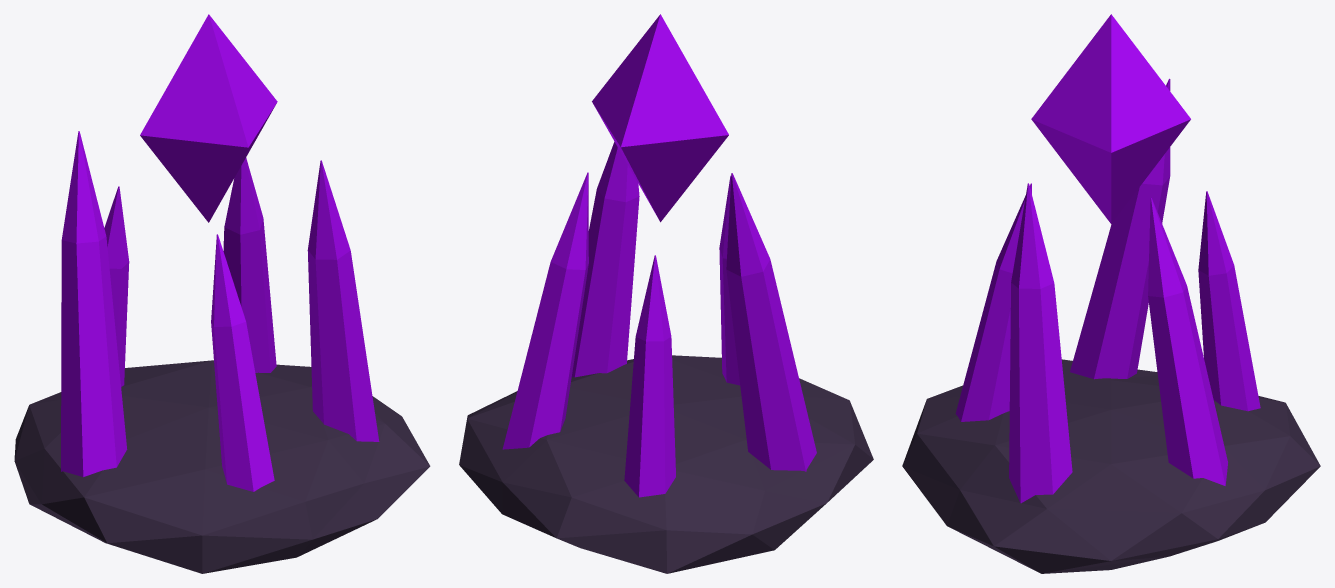
File: amethyst.glb
3 views of the same model, side by side, from view 1: azimuth 30°, elevation 25°; view 2: azimuth 150°, elevation 25°; view 3: azimuth 270°, elevation 25° (orthographic).
Parts seen in each view (by area): view 1: RockBase, AmethystMonolith_2, AmethystFloat, AmethystMonolith_0, AmethystMonolith_1, AmethystMonolith_4, AmethystMonolith_3; view 2: RockBase, AmethystFloat, AmethystMonolith_2, AmethystMonolith_4, AmethystMonolith_0, AmethystMonolith_3, AmethystMonolith_1; view 3: RockBase, AmethystFloat, AmethystMonolith_0, AmethystMonolith_4, AmethystMonolith_2, AmethystMonolith_3, AmethystMonolith_1.
Boxes of the visible parts, x1=… form: RockBase: x1=14, y1=360, x2=430, y2=573; AmethystMonolith_2: x1=61, y1=131, x2=127, y2=476; AmethystFloat: x1=140, y1=14, x2=277, y2=222; AmethystMonolith_0: x1=307, y1=160, x2=379, y2=441; AmethystMonolith_1: x1=211, y1=234, x2=274, y2=491; AmethystMonolith_4: x1=223, y1=157, x2=276, y2=372; AmethystMonolith_3: x1=104, y1=186, x2=129, y2=386; RockBase: x1=459, y1=355, x2=873, y2=573; AmethystFloat: x1=592, y1=14, x2=728, y2=222; AmethystMonolith_2: x1=726, y1=173, x2=816, y2=471; AmethystMonolith_4: x1=502, y1=172, x2=588, y2=449; AmethystMonolith_0: x1=571, y1=141, x2=639, y2=377; AmethystMonolith_3: x1=624, y1=255, x2=675, y2=497; AmethystMonolith_1: x1=719, y1=175, x2=740, y2=385; RockBase: x1=902, y1=359, x2=1320, y2=573; AmethystFloat: x1=1031, y1=14, x2=1190, y2=223; AmethystMonolith_0: x1=1009, y1=183, x2=1072, y2=503; AmethystMonolith_4: x1=1148, y1=198, x2=1227, y2=485; AmethystMonolith_2: x1=1070, y1=78, x2=1170, y2=379; AmethystMonolith_3: x1=1198, y1=191, x2=1260, y2=411; AmethystMonolith_1: x1=955, y1=183, x2=1031, y2=421.
Size of the model in its own units: 1.36 by 1.83 by 1.36.
